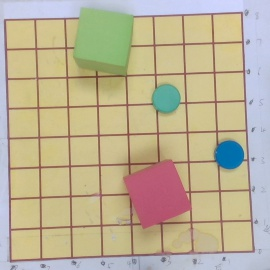blue: (215, 140, 245, 169)
green: (151, 84, 181, 113)
